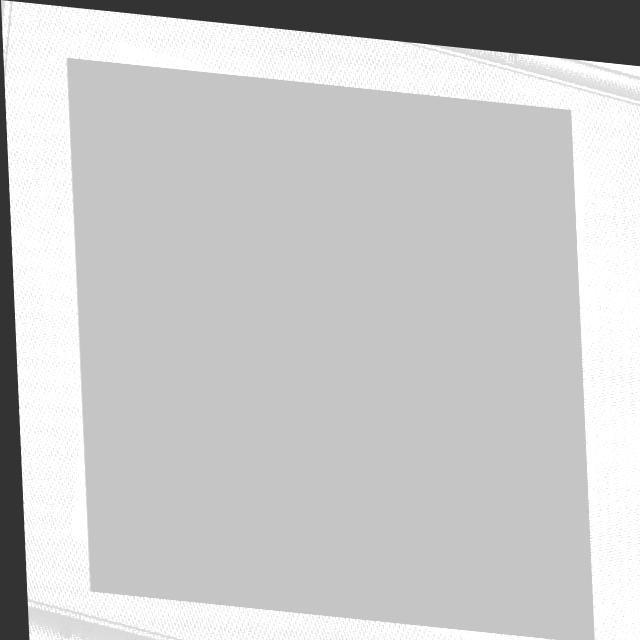qr_code: (65, 56, 588, 631)
